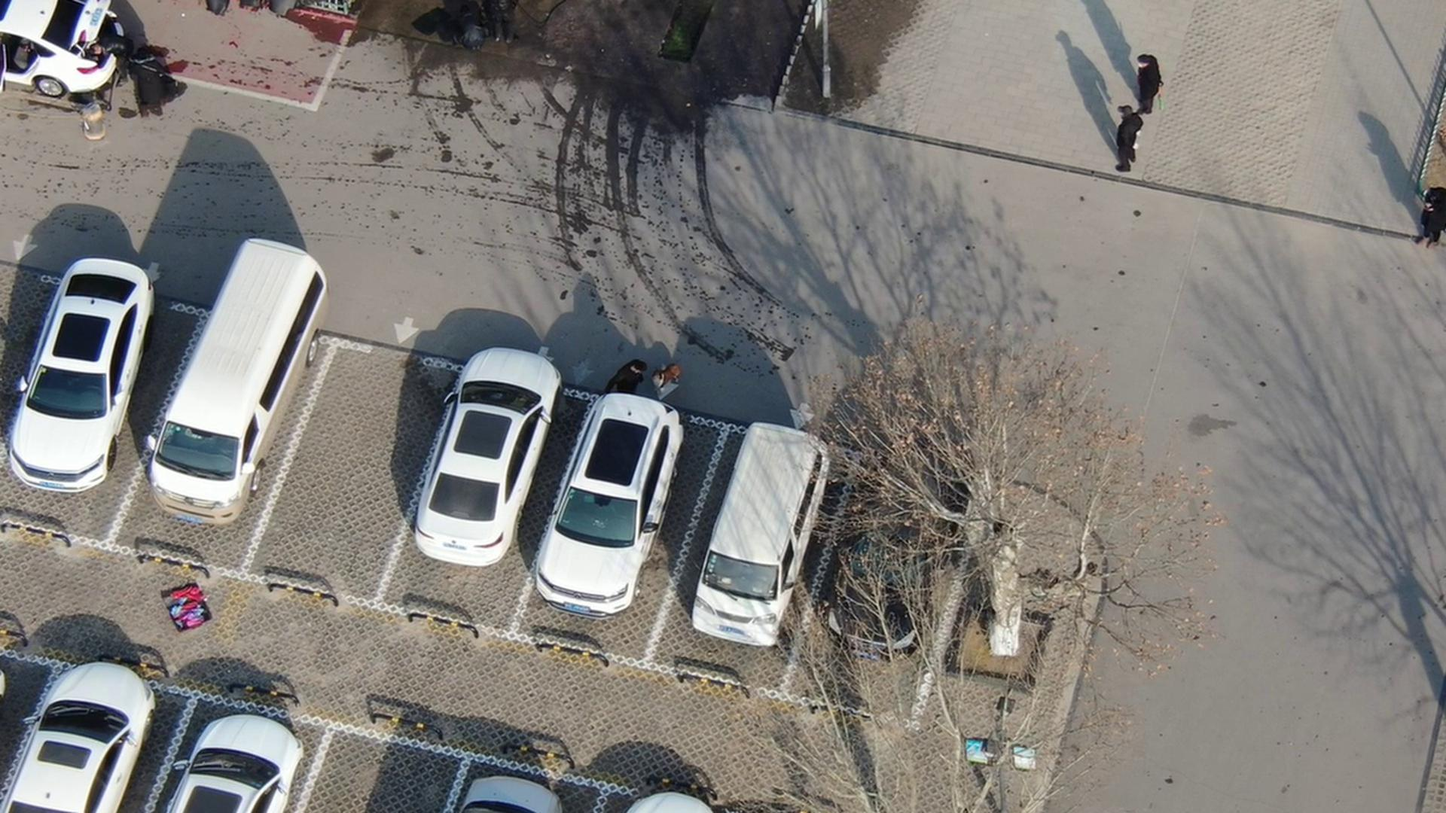human: (136, 38, 177, 118), (95, 21, 139, 84), (1107, 102, 1139, 174), (1130, 48, 1162, 117), (602, 352, 648, 395), (447, 1, 487, 45), (484, 1, 516, 41)
